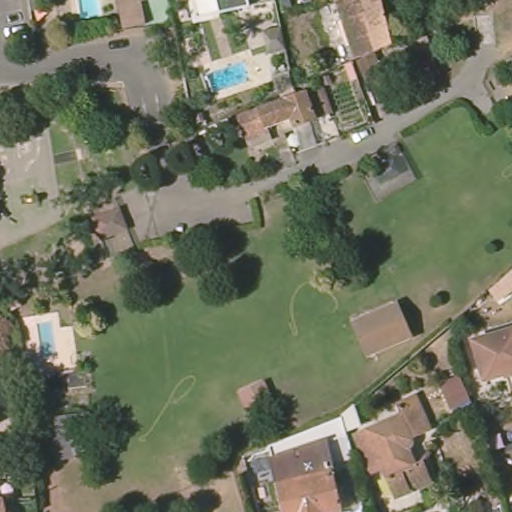pool: (205, 62, 250, 95), (35, 318, 59, 361), (78, 1, 106, 20)
